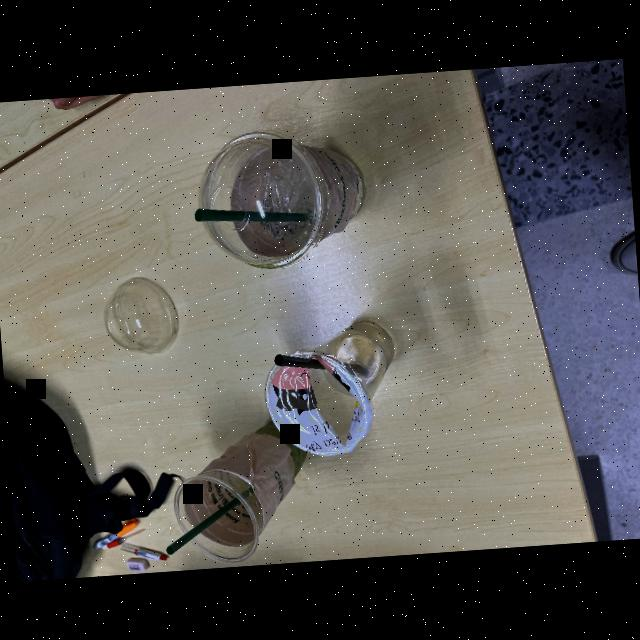plastic_cup: (190, 128, 372, 274), (166, 414, 331, 566), (260, 314, 408, 456)
plastic_cup_lid: (190, 133, 322, 270), (103, 273, 181, 356)
straw: (163, 485, 256, 556), (272, 354, 364, 373), (192, 207, 306, 222)
